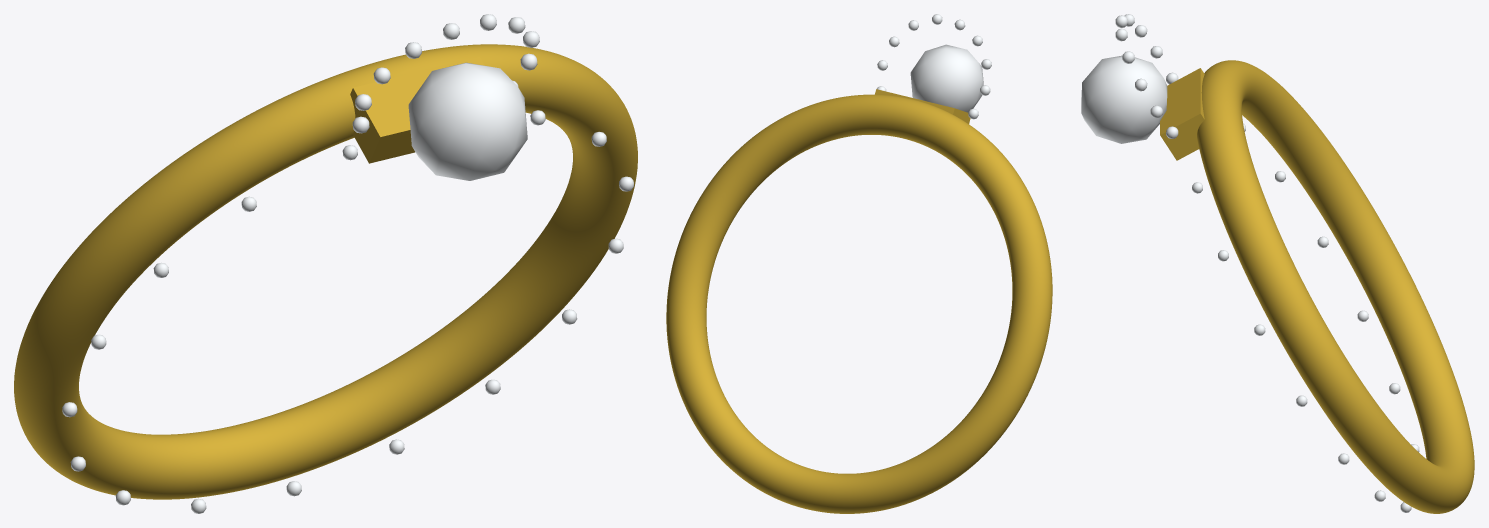
Rendered from cassia-studs.glb.
3 views of the same model, side by side, from view 1: azimuth 30°, elevation 25°; view 2: azimuth 150°, elevation 25°; view 3: azimuth 270°, elevation 25° (orthographic). The views are drawn at different scales.
Visible parts, largest first — view 1: gold_band, hero_gemstone, gold_setting; view 2: gold_band, hero_gemstone, gold_setting; view 3: gold_band, hero_gemstone, gold_setting.
Boxes of the visible parts, x1=… form: gold_band: x1=14, y1=44, x2=637, y2=499; hero_gemstone: x1=408, y1=62, x2=527, y2=180; gold_setting: x1=350, y1=57, x2=484, y2=163; gold_band: x1=666, y1=94, x2=1052, y2=513; hero_gemstone: x1=910, y1=44, x2=983, y2=112; gold_setting: x1=875, y1=89, x2=970, y2=123; gold_band: x1=1197, y1=60, x2=1474, y2=513; hero_gemstone: x1=1081, y1=55, x2=1167, y2=143; gold_setting: x1=1160, y1=68, x2=1204, y2=160.
Bounding box in the file's own units: 2.15 × 2.18 × 1.67.
